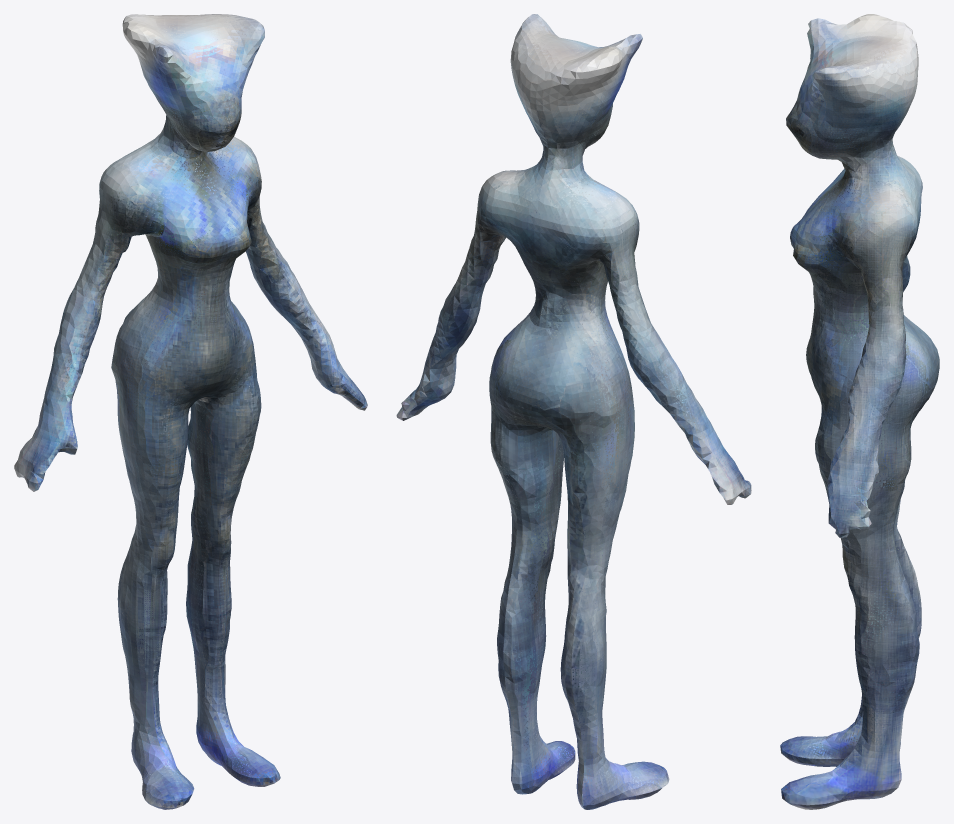
File: dream-gaussian-white-nymph-1.glb
The picture shows the model from 3 angles, left to right: view 1: azimuth 30°, elevation 25°; view 2: azimuth 150°, elevation 25°; view 3: azimuth 270°, elevation 25°; orthographic projection. The views are drawn at different scales.
Bounding box in the file's own units: 0.6371 × 1.36 × 0.2627.
Materials: 1 (1 with a texture image).
